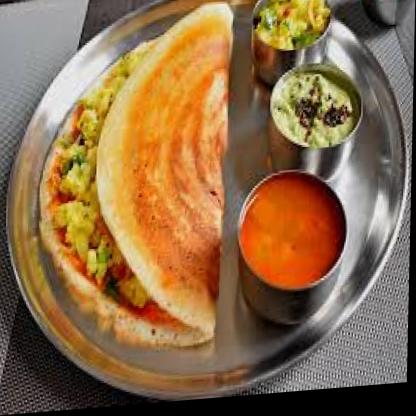dosa: (37, 6, 233, 359)
